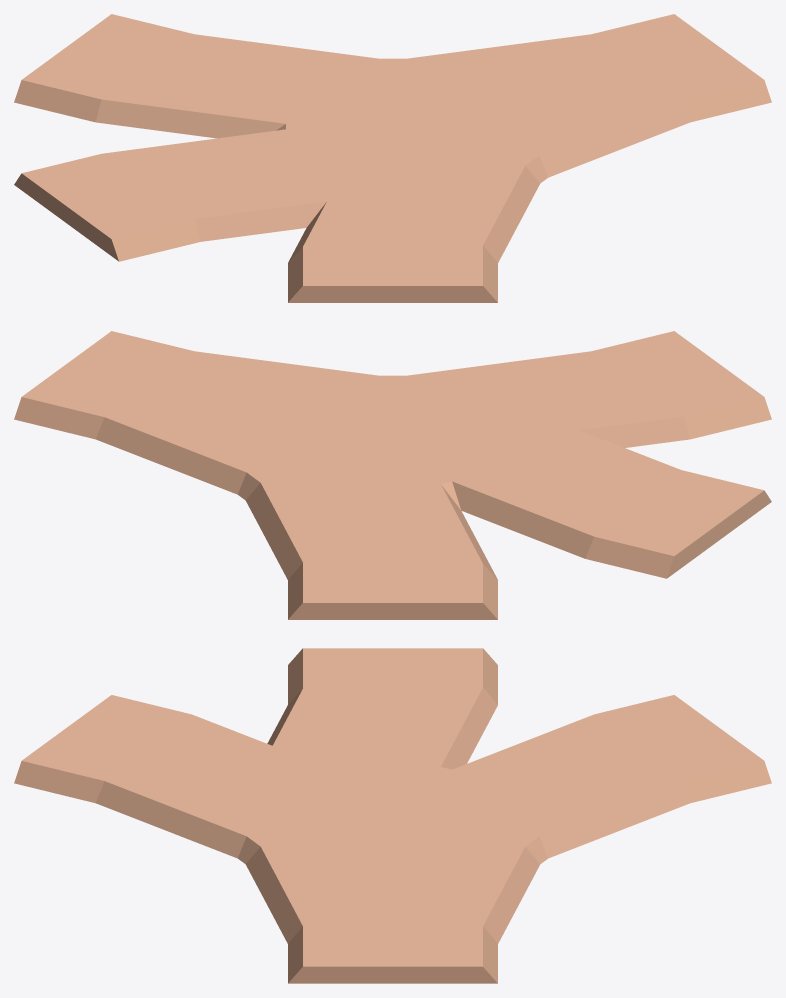
File: path_intersectionD.glb
The picture shows the model from 3 angles, top to bottom: view 1: azimuth 30°, elevation 25°; view 2: azimuth 150°, elevation 25°; view 3: azimuth 270°, elevation 25°; orthographic projection.
Parts seen in each view (by area): view 1: path_intersectionD; view 2: path_intersectionD; view 3: path_intersectionD.
Part boxes in pixels (x1,y1,x2,y2): path_intersectionD: (14,14,771,302); path_intersectionD: (14,331,771,619); path_intersectionD: (14,648,771,983).
Size of the model in its own units: 1 by 0.025 by 1.01.
